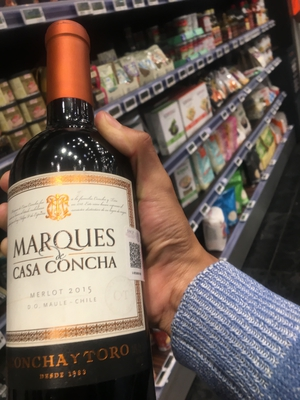marques de casa concha merlot: (6, 37, 173, 400)
